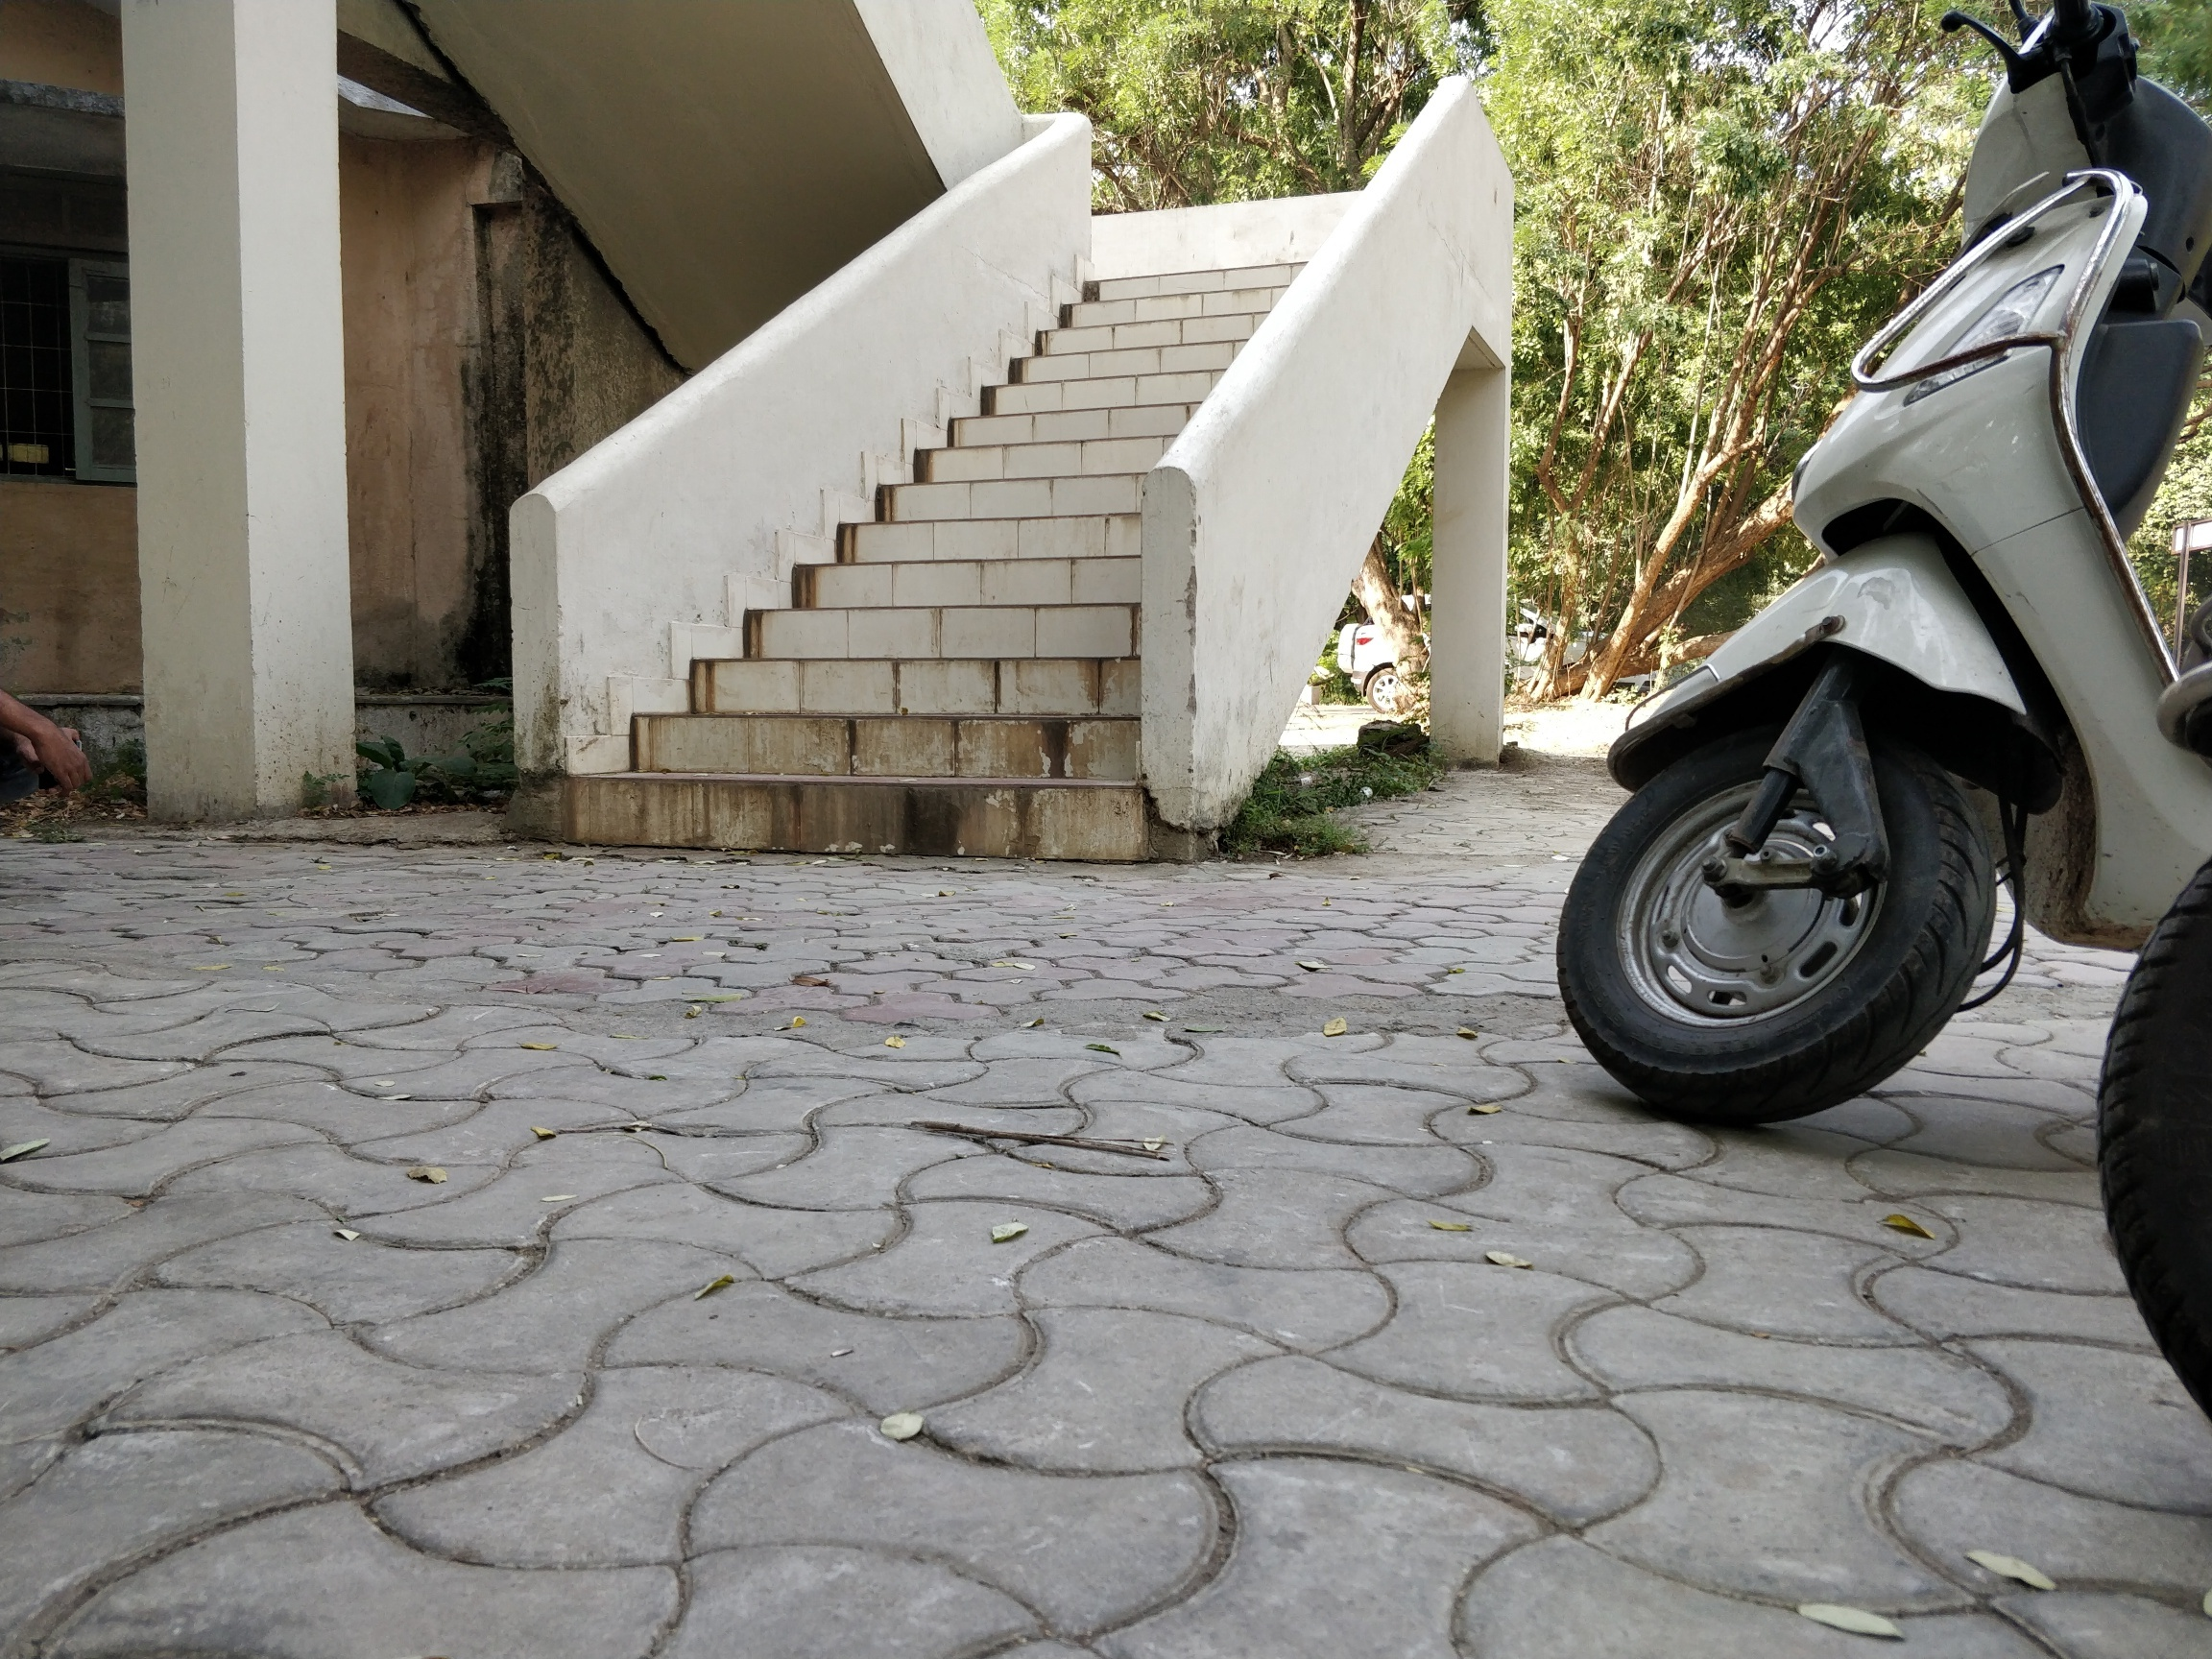stairs_up: (510, 230, 1364, 857)
